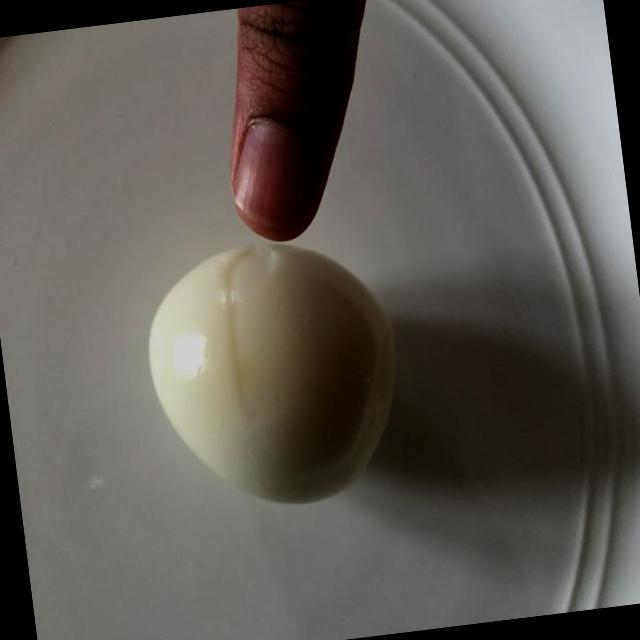Egg: (124, 230, 425, 526)
Finger: (195, 0, 368, 249)
